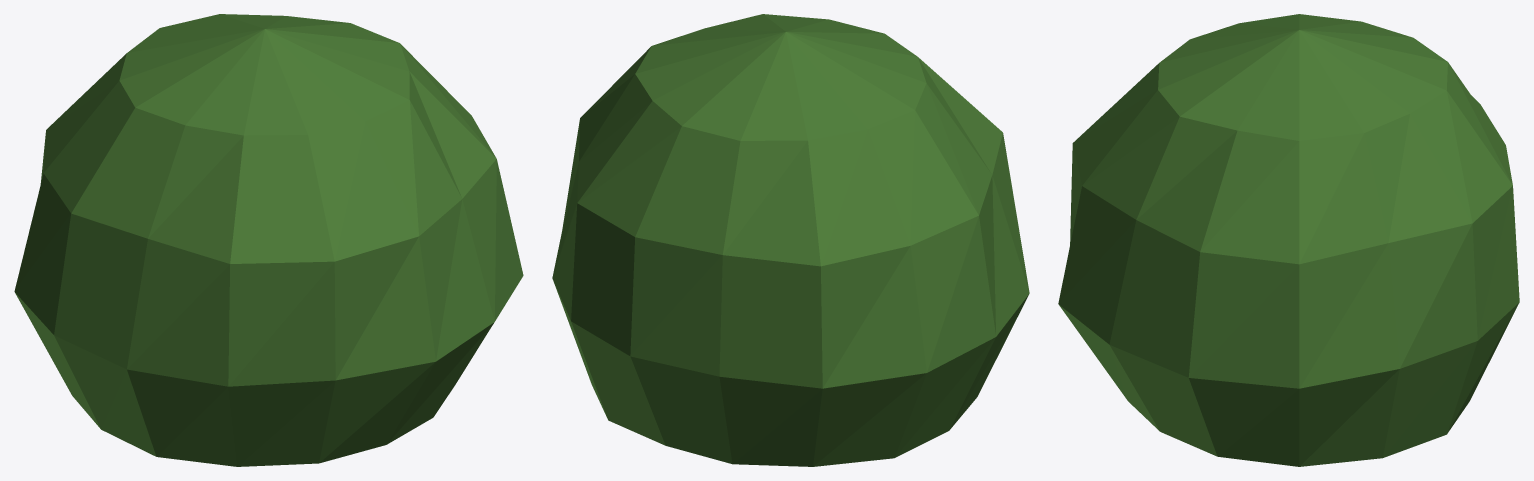
File: shrub.L1.e98d5564.glb
The picture shows the model from 3 angles, left to right: view 1: azimuth 30°, elevation 25°; view 2: azimuth 150°, elevation 25°; view 3: azimuth 270°, elevation 25°; orthographic projection.
Parts seen in each view (by area): view 1: A-TREES-SHRUB; view 2: A-TREES-SHRUB; view 3: A-TREES-SHRUB.
Part boxes in pixels (bbox=[...]): A-TREES-SHRUB: bbox=[14, 14, 523, 466]; A-TREES-SHRUB: bbox=[552, 14, 1029, 466]; A-TREES-SHRUB: bbox=[1058, 14, 1519, 466].
Bounding box in the file's own units: 2.91 × 2.45 × 2.71.
